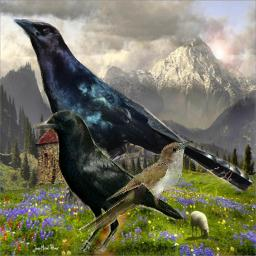Crow: (13, 19, 254, 205), (32, 110, 184, 254)
Cuckoo: (78, 140, 194, 232)
